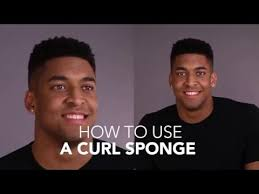black_male: (168, 48, 227, 121)
